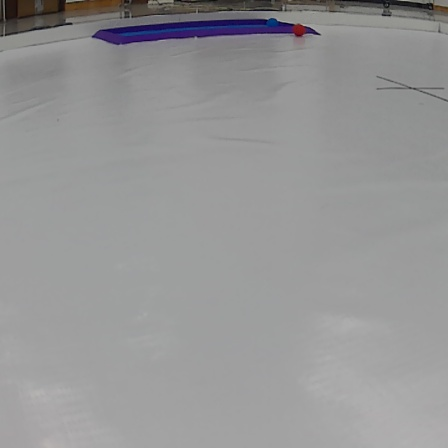blue: (264, 14, 279, 31)
blue_aim: (87, 20, 334, 46)
red: (294, 25, 309, 38)
